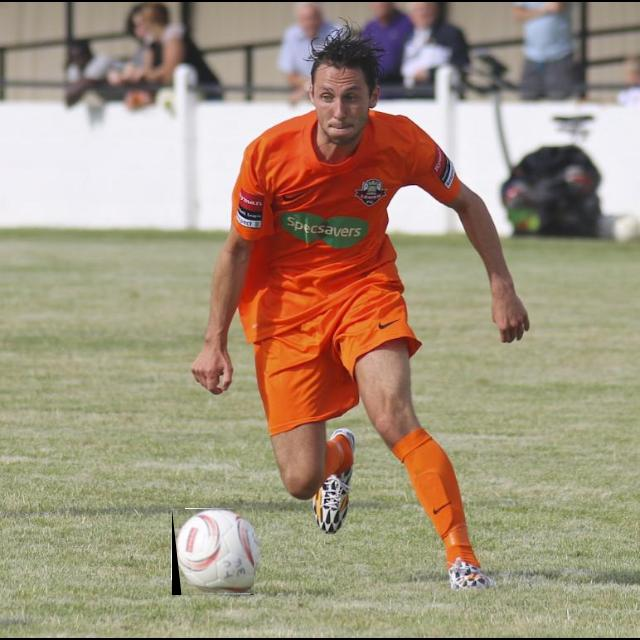Football: (172, 509, 254, 595)
